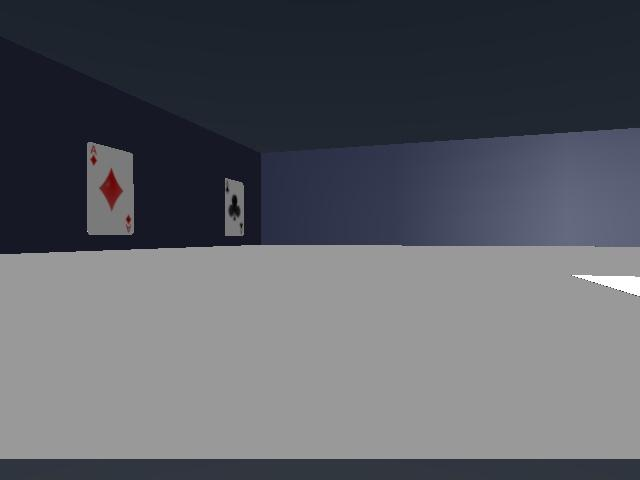club: (225, 178, 244, 235)
diamond: (87, 142, 133, 234)
